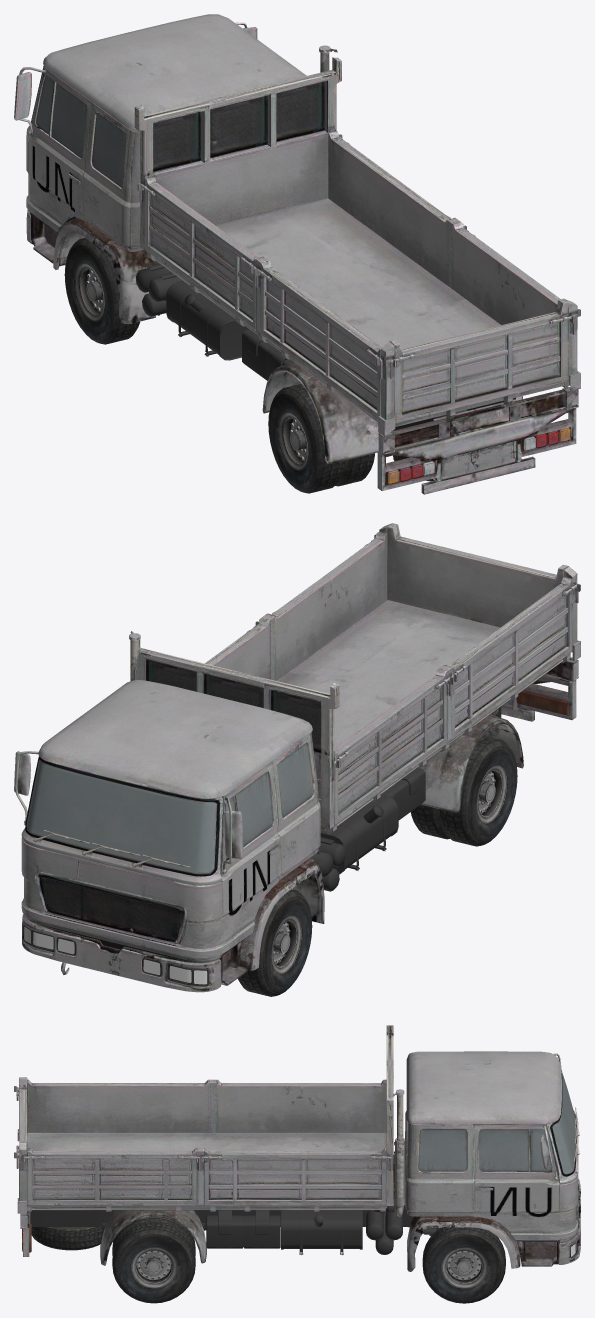
File: Camion.fbx
3 renders of one model, top to bottom at view 1: azimuth 30°, elevation 25°; view 2: azimuth 150°, elevation 25°; view 3: azimuth 270°, elevation 25°, orthographic. The views are drawn at different scales.
Visible parts, largest first — view 1: Ranchero truckedit_v034_car_oldtruck_wheel_0, Ranchero truckedit_v034_car_oldtruck_wheel_0.003, Ranchero truckedit_v034_car_oldtruck_wheel_0.002; view 2: Ranchero truckedit_v034_car_oldtruck_wheel_0, Ranchero truckedit_v034_car_oldtruck_wheel_0.003, Ranchero truckedit_v034_car_oldtruck_wheel_0.002; view 3: Ranchero truckedit_v034_car_oldtruck_wheel_0, Ranchero truckedit_v034_car_oldtruck_wheel_0.004, Ranchero truckedit_v034_car_oldtruck_wheel_0.001.
Boxes of the visible parts, x1,y1,x2,y2 form: Ranchero truckedit_v034_car_oldtruck_wheel_0: (14,14,580,494); Ranchero truckedit_v034_car_oldtruck_wheel_0.003: (268,383,374,493); Ranchero truckedit_v034_car_oldtruck_wheel_0.002: (64,238,139,344); Ranchero truckedit_v034_car_oldtruck_wheel_0: (14,523,580,992); Ranchero truckedit_v034_car_oldtruck_wheel_0.003: (410,735,517,846); Ranchero truckedit_v034_car_oldtruck_wheel_0.002: (237,889,312,996); Ranchero truckedit_v034_car_oldtruck_wheel_0: (14,1025,580,1271); Ranchero truckedit_v034_car_oldtruck_wheel_0.004: (112,1217,195,1303); Ranchero truckedit_v034_car_oldtruck_wheel_0.001: (422,1227,505,1303).
Size of the model in its own units: 36.18 by 41.2 by 99.81.
Materials: 7 (4 with a texture image).
